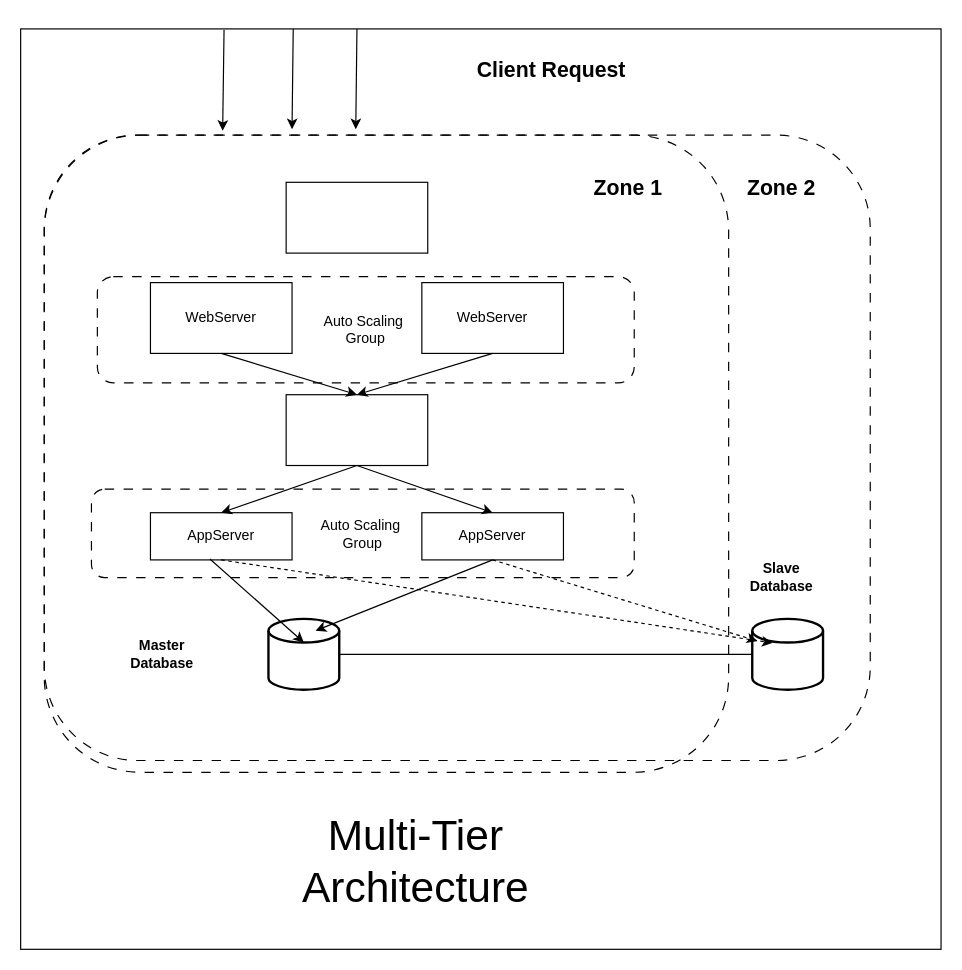
Image size: 962x970. Some labels were removed from this diagram. The shapes that lost their labels are listed below. From the top down, each one's centre as x and y in pixels, then its label:
At point 356,217: "Load Balancer".
At point 356,430: "Internal Load Balancer".
